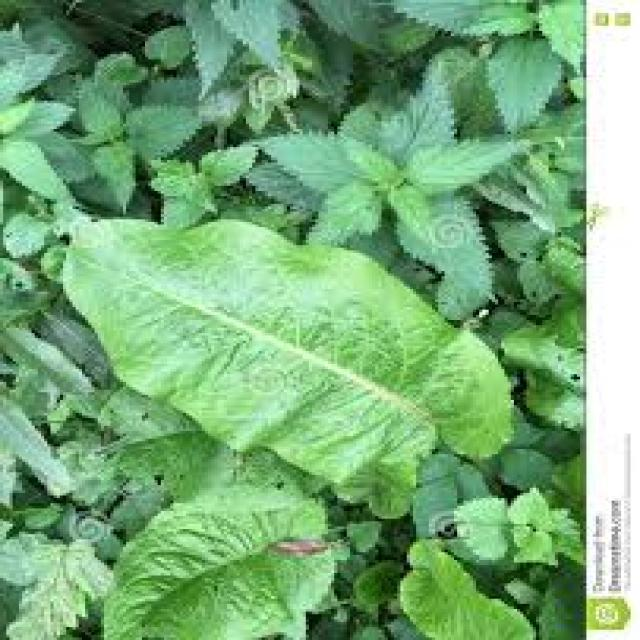organic waste: (47, 198, 539, 640)
